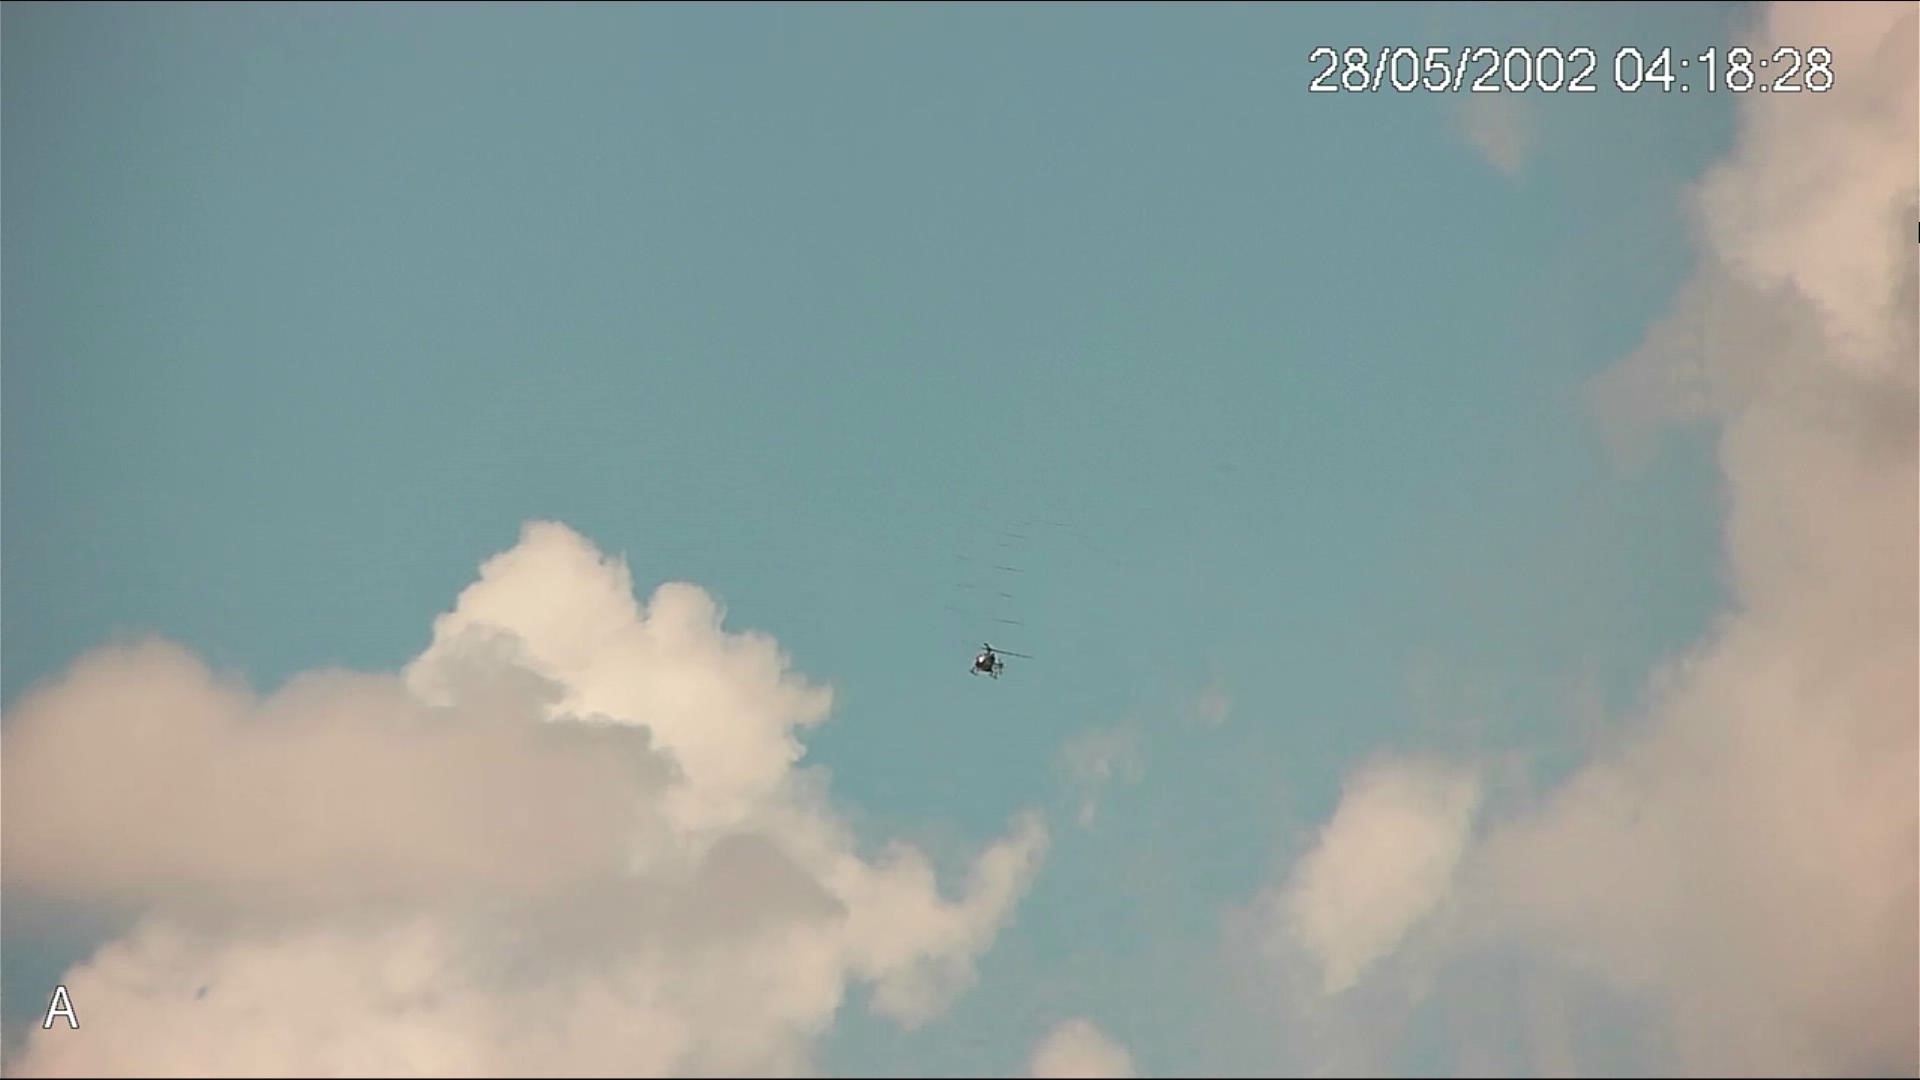SU_30: (971, 640, 1004, 682)
